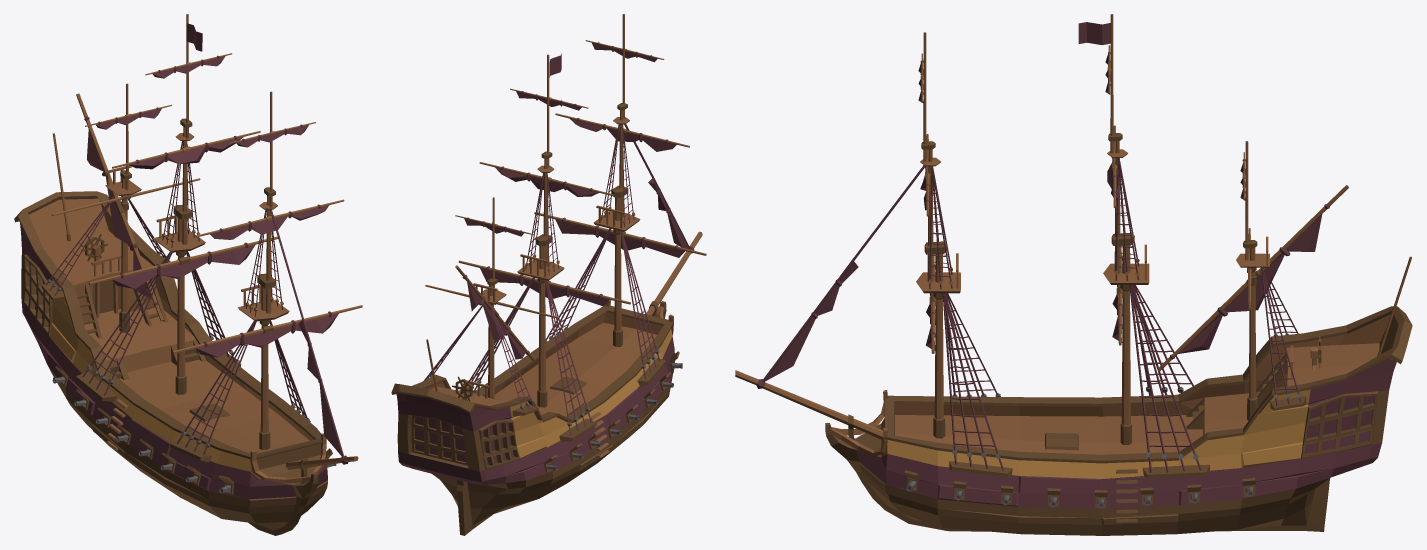
The model's file is ship-colonial.fbx.
3 renders of one model, left to right at view 1: azimuth 30°, elevation 25°; view 2: azimuth 150°, elevation 25°; view 3: azimuth 270°, elevation 25°, orthographic. The views are drawn at different scales.
Parts seen in each view (by area): view 1: ship-colonial; view 2: ship-colonial; view 3: ship-colonial.
Part boxes in pixels (x1,y1,x2,y2): ship-colonial: (14,14,362,535); ship-colonial: (391,14,706,535); ship-colonial: (735,14,1412,535).
Bounding box in the file's own units: 12.22 × 28.51 × 33.91.
